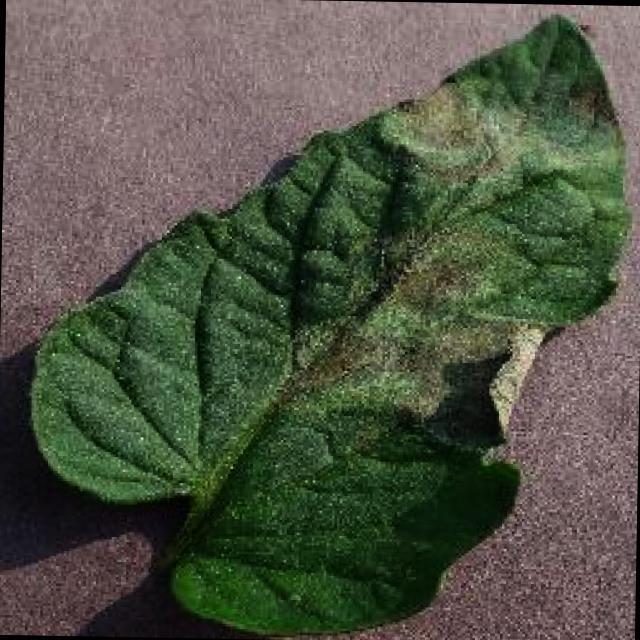Tomato late blight leaf: (23, 5, 634, 640)
